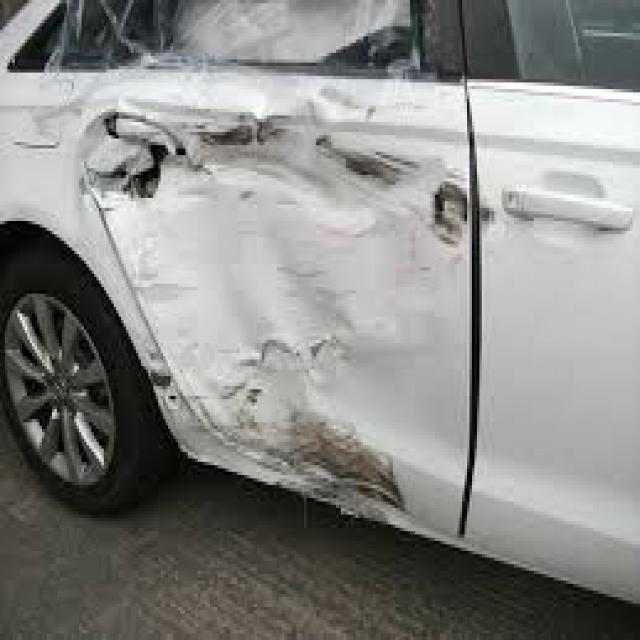moderate: (63, 39, 560, 527)
